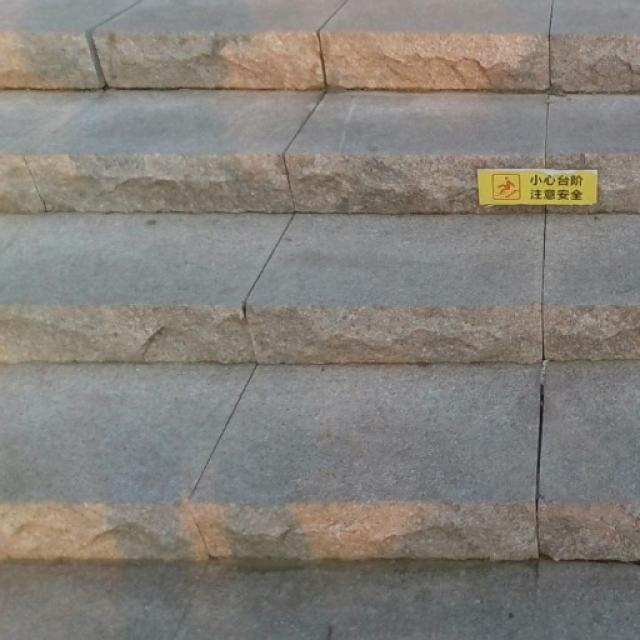Stairs: (0, 25, 639, 573)
